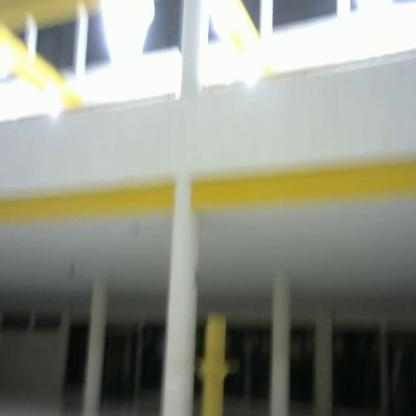pole: (186, 309, 243, 416)
